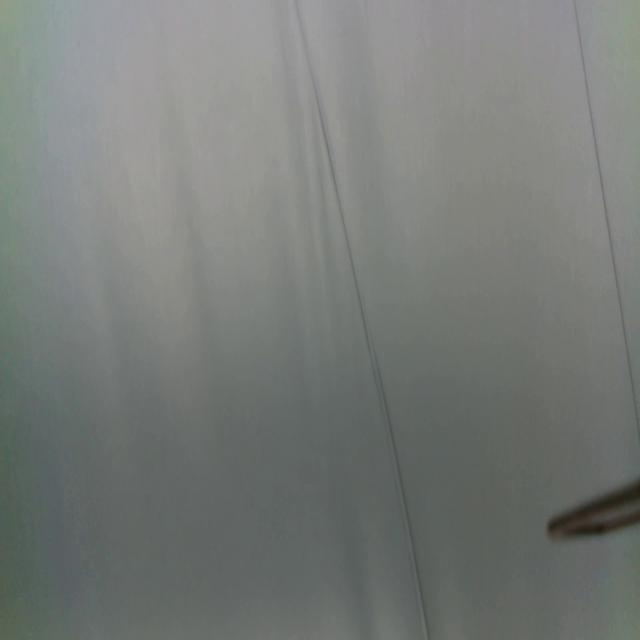crease: (293, 1, 431, 639), (575, 0, 640, 436)
